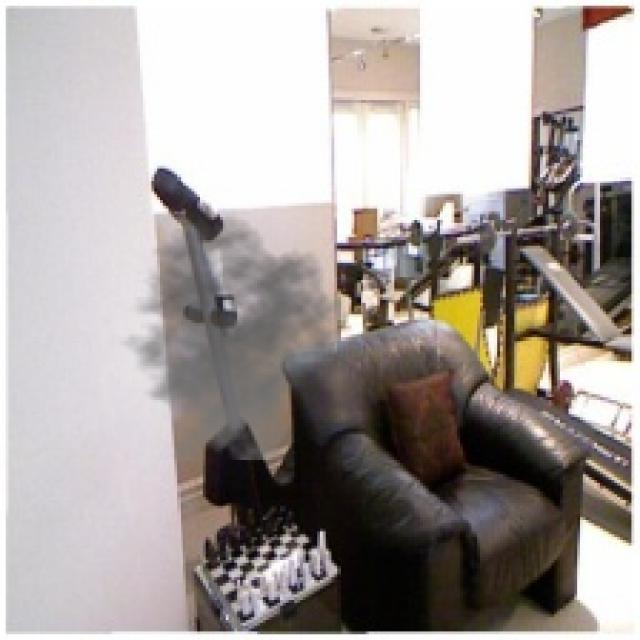Smoke: (108, 215, 346, 460)
